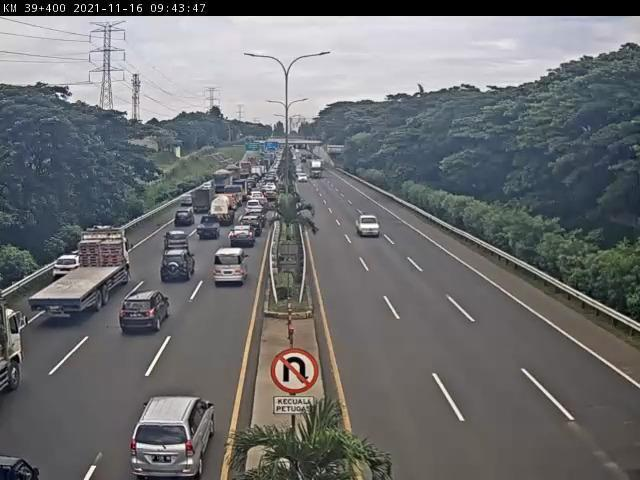car: (132, 397, 216, 480), (120, 291, 171, 335), (214, 249, 249, 287), (157, 254, 195, 289), (1, 457, 41, 480), (166, 234, 194, 261), (356, 215, 382, 240), (196, 217, 220, 242), (231, 227, 255, 252), (54, 257, 81, 274), (241, 216, 263, 236), (170, 212, 192, 231), (249, 209, 269, 225), (247, 200, 265, 214), (178, 196, 194, 208), (249, 193, 265, 202), (298, 172, 305, 179)
truck: (33, 228, 134, 316), (188, 187, 215, 216), (212, 196, 235, 226), (211, 170, 233, 197), (226, 185, 245, 206), (309, 158, 321, 176)
